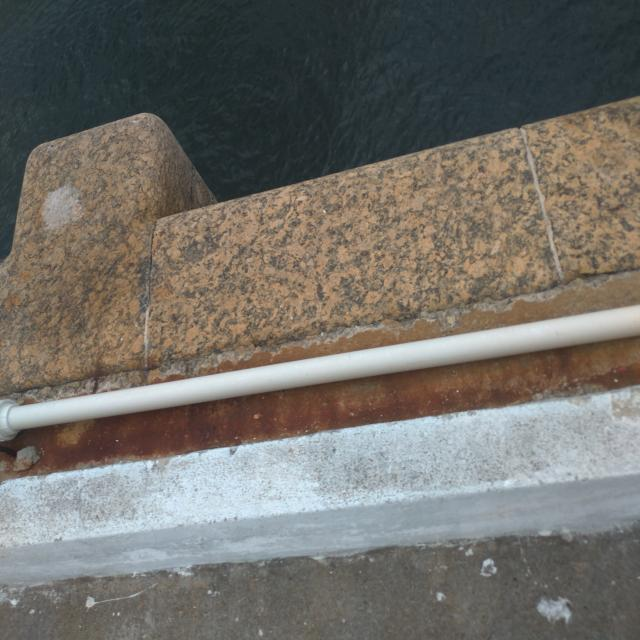gas: (11, 304, 638, 435)
